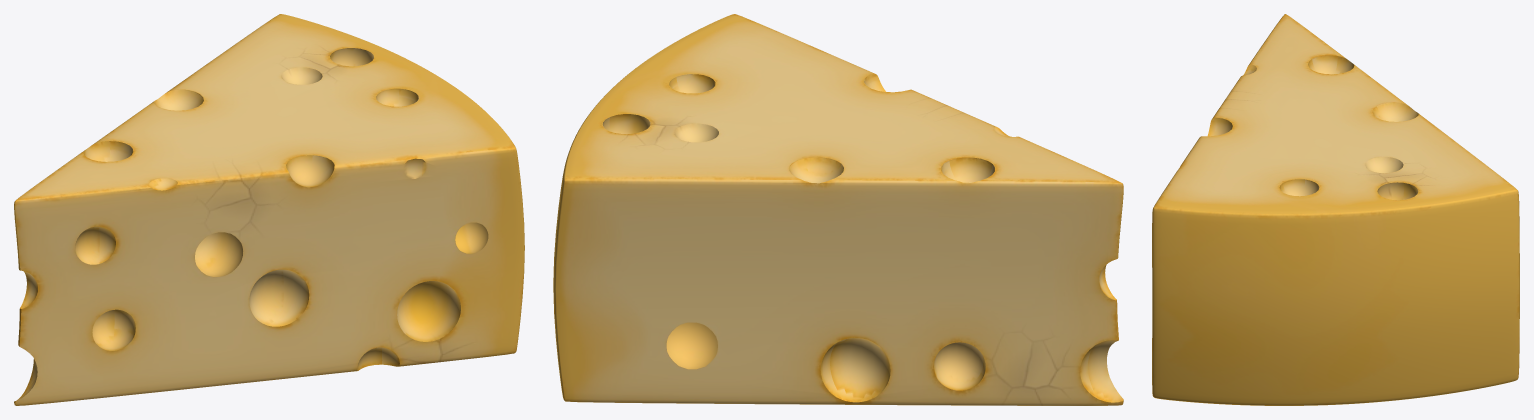
File: cheese.gltf
3 renders of one model, left to right at view 1: azimuth 30°, elevation 25°; view 2: azimuth 150°, elevation 25°; view 3: azimuth 270°, elevation 25°, orthographic. The views are drawn at different scales.
Parts seen in each view (by area): view 1: defaultMaterial; view 2: defaultMaterial; view 3: defaultMaterial.
Part boxes in pixels (x1,y1,x2,y2): defaultMaterial: (14,14,524,405); defaultMaterial: (553,14,1123,405); defaultMaterial: (1152,14,1519,405).
Size of the model in its own units: 7.88 by 3.47 by 5.93.
1 material, 1 textured.
